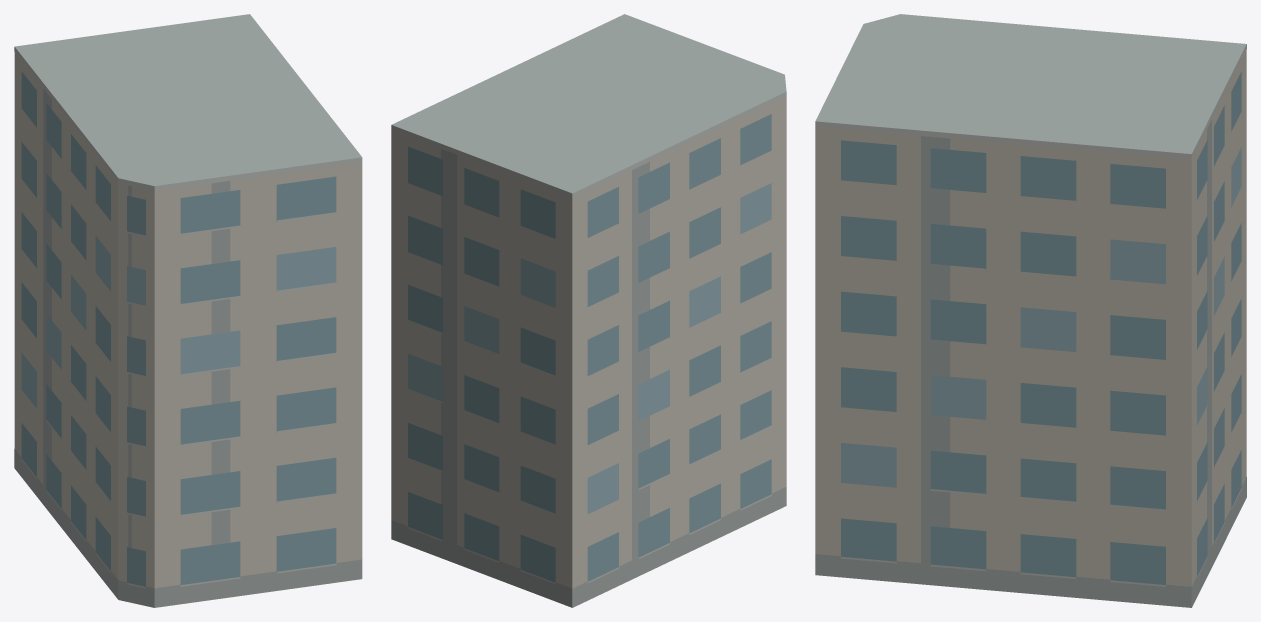
Rendered from survey-upis-32624927.glb.
3 renders of one model, left to right at view 1: azimuth 30°, elevation 25°; view 2: azimuth 150°, elevation 25°; view 3: azimuth 270°, elevation 25°, orthographic. The views are drawn at different scales.
Parts seen in each view (by area): view 1: survey-upis-32624927.tmp; view 2: survey-upis-32624927.tmp; view 3: survey-upis-32624927.tmp.
Boxes of the visible parts, x1,y1,x2,y2 form: survey-upis-32624927.tmp: [14, 14, 362, 607]; survey-upis-32624927.tmp: [391, 14, 786, 607]; survey-upis-32624927.tmp: [815, 14, 1246, 607].
Bounding box in the file's own units: 13.32 × 20.1 × 17.33.
